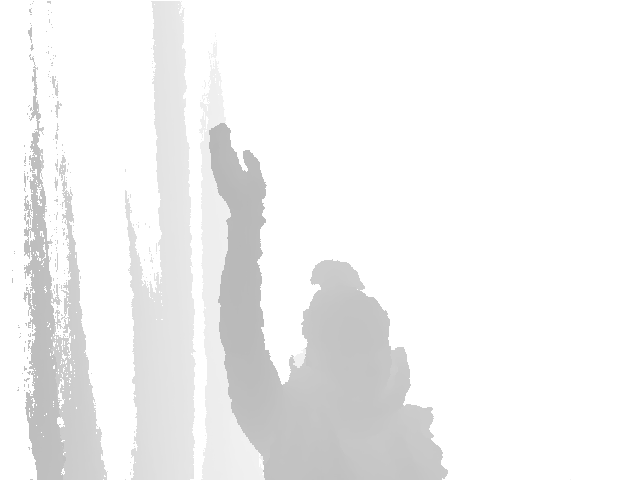hand: (208, 123, 266, 213)
head: (301, 259, 392, 396)
person: (208, 123, 450, 480)
